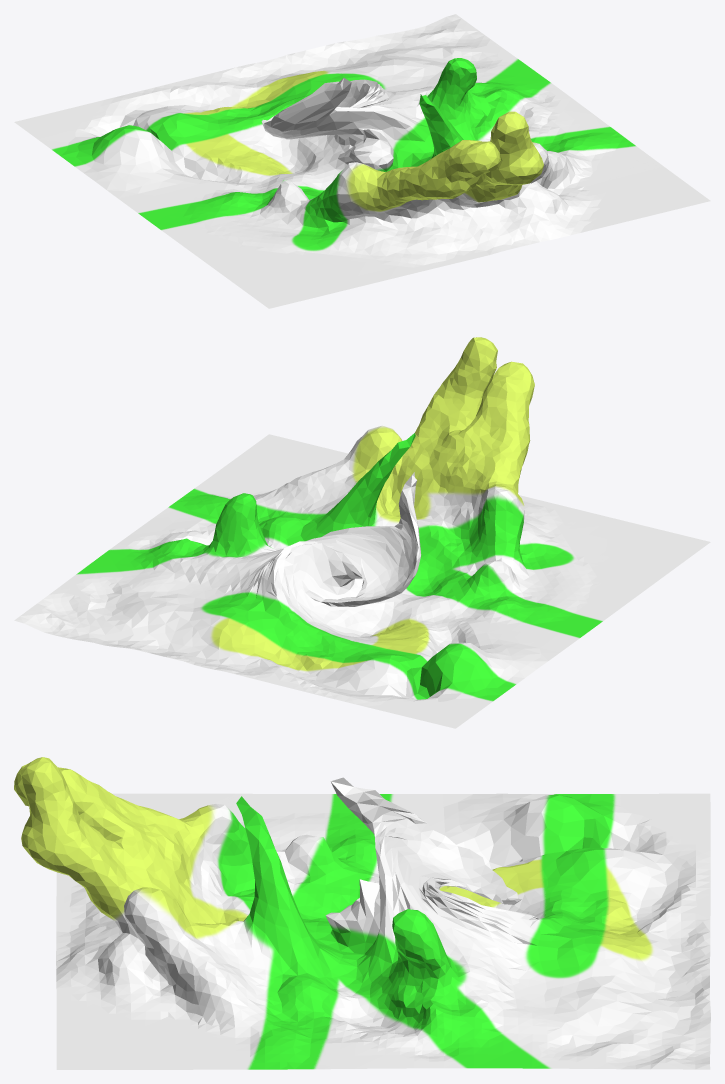
File: slime.glb
3 views of the same model, one above another, from view 1: azimuth 30°, elevation 25°; view 2: azimuth 150°, elevation 25°; view 3: azimuth 270°, elevation 25° (orthographic). The views are drawn at different scales.
Parts seen in each view (by area): view 1: Plane; view 2: Plane; view 3: Plane.
Boxes of the visible parts, x1,y1,x2,y2 form: Plane: [14, 14, 710, 308]; Plane: [14, 337, 710, 728]; Plane: [14, 757, 710, 1069].
Bounding box in the file's own units: 2 × 0.7177 × 2.13.
Materials: 1 (1 with a texture image).
